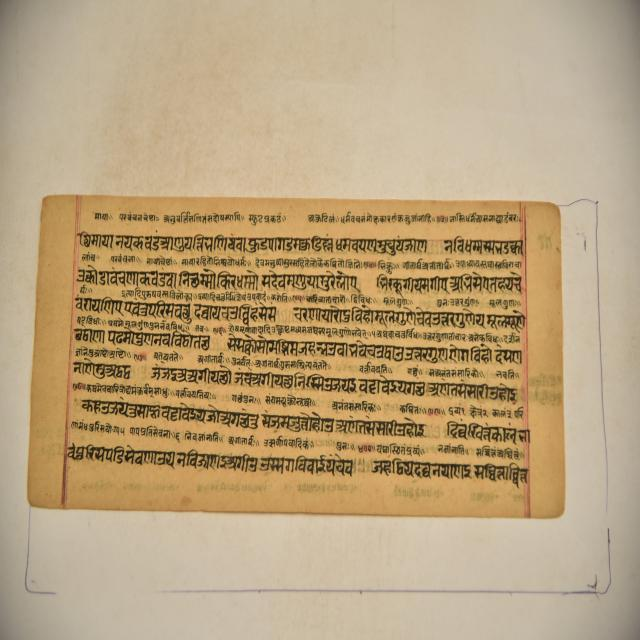text_paragraph: (20, 195, 566, 519)
